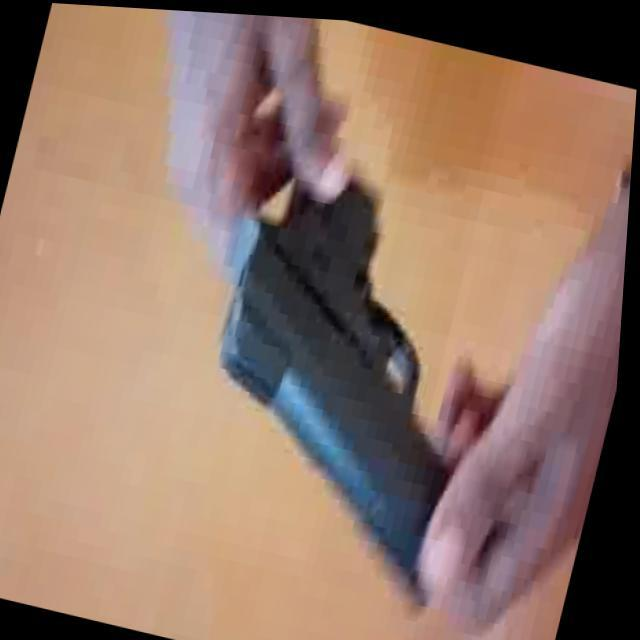weapon: (144, 59, 554, 602)
